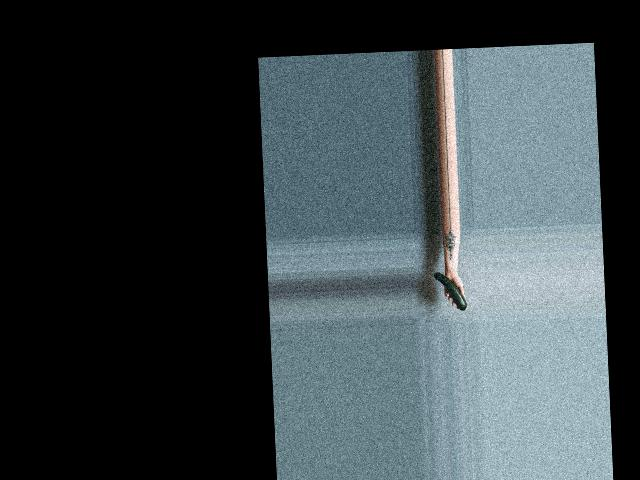cucumber: (433, 271, 466, 312)
